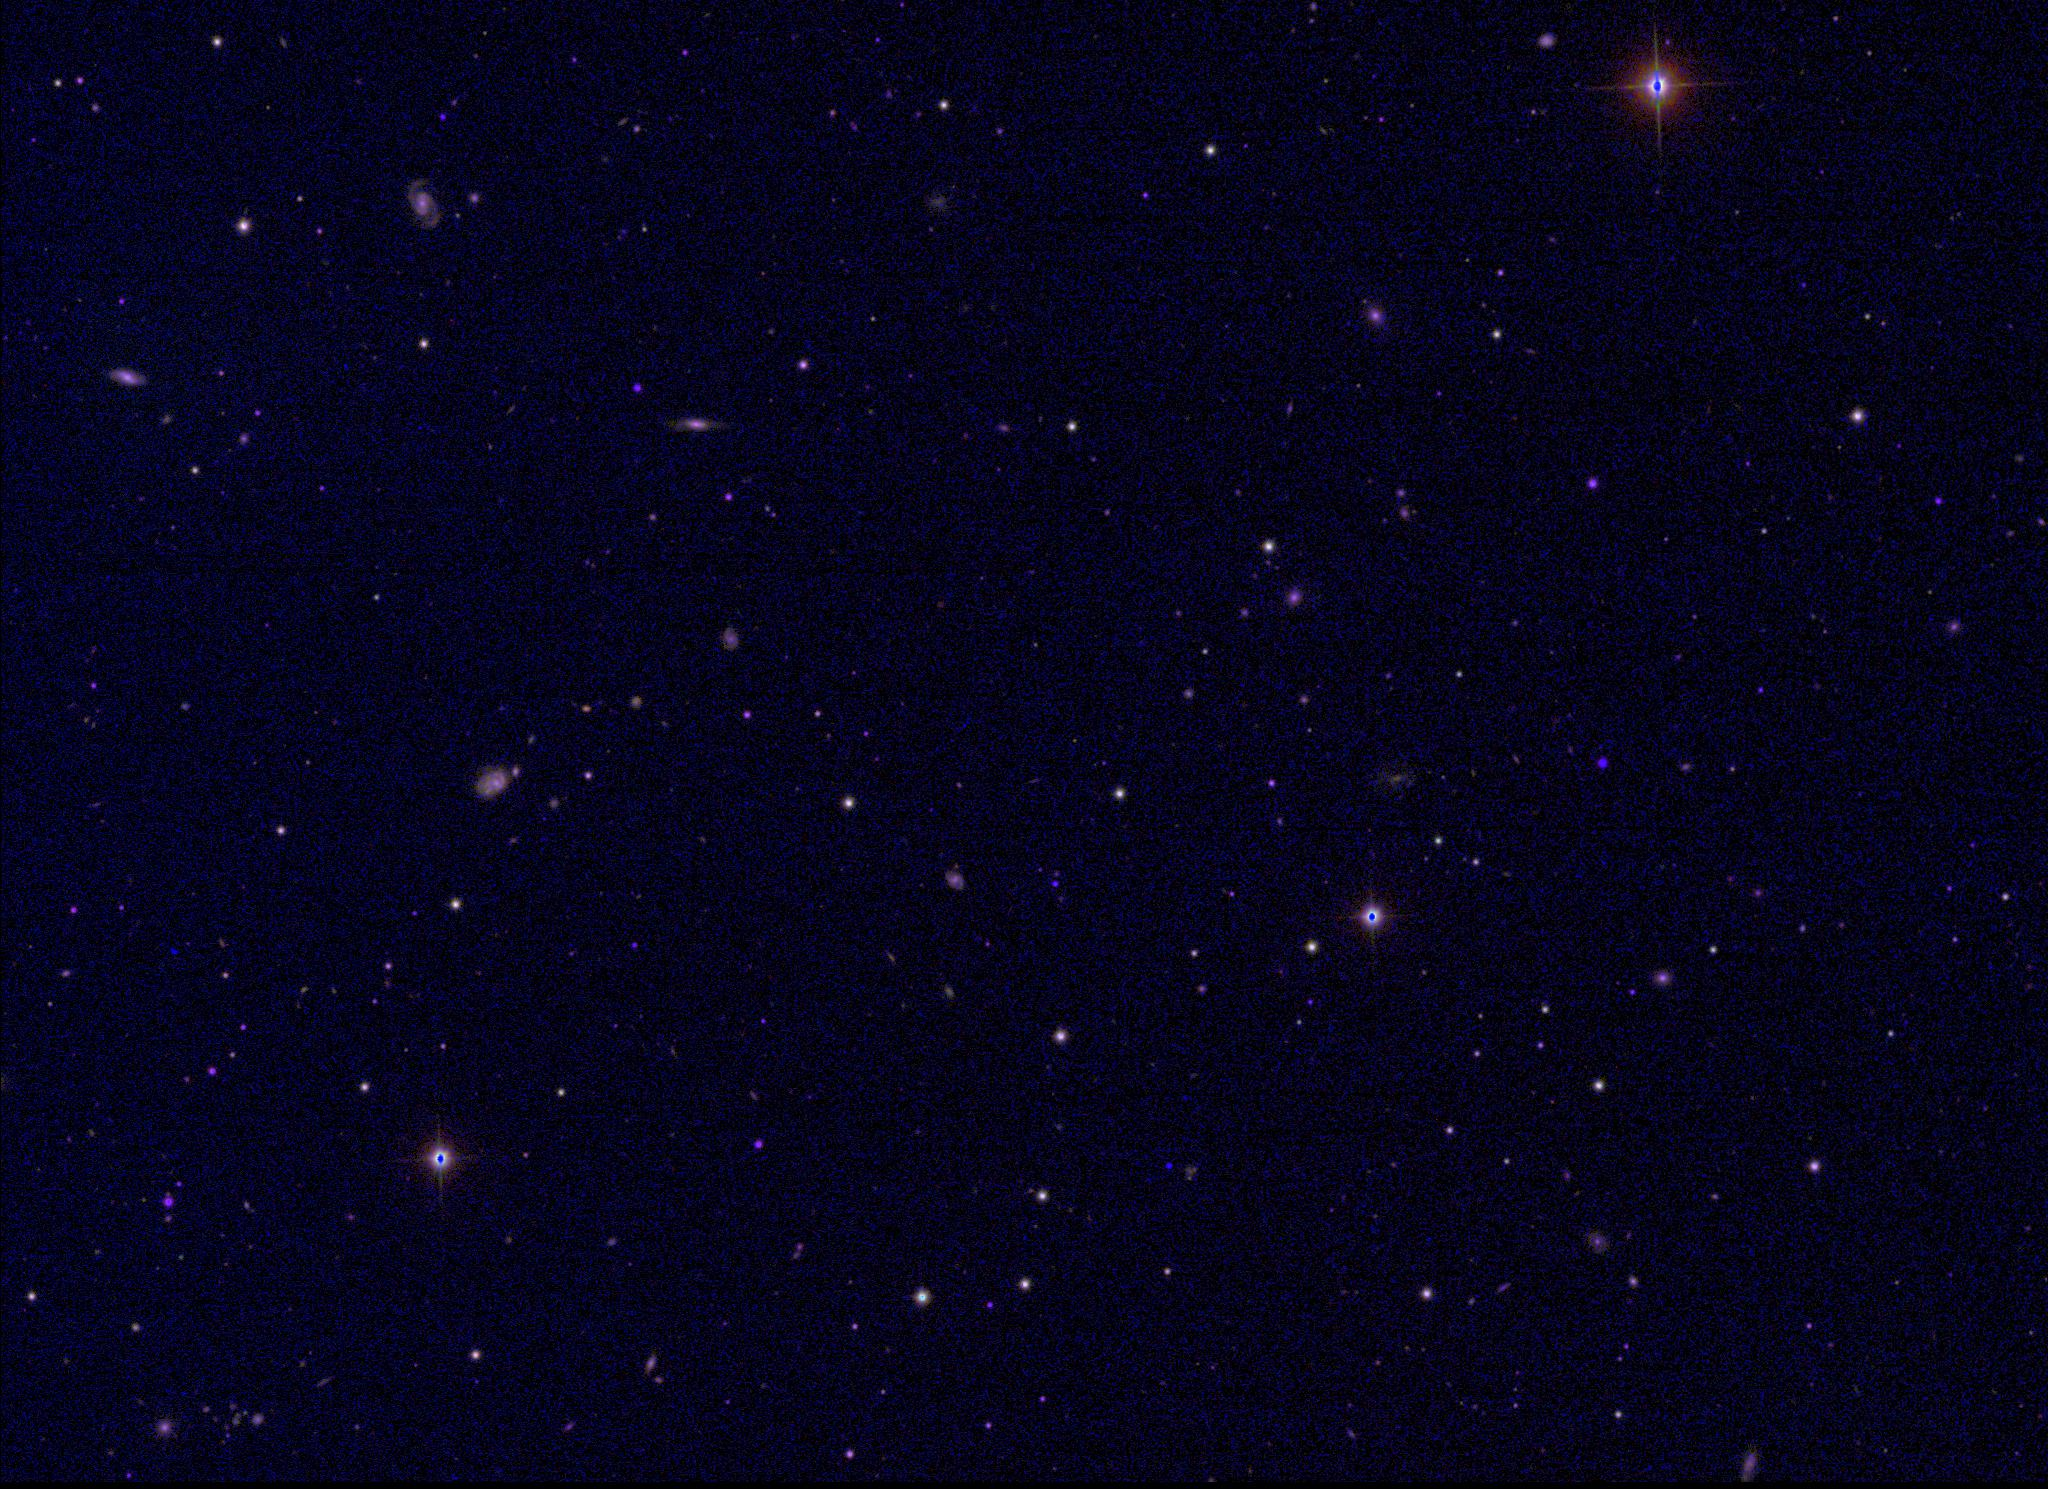L: (1162, 1158, 1177, 1172)
